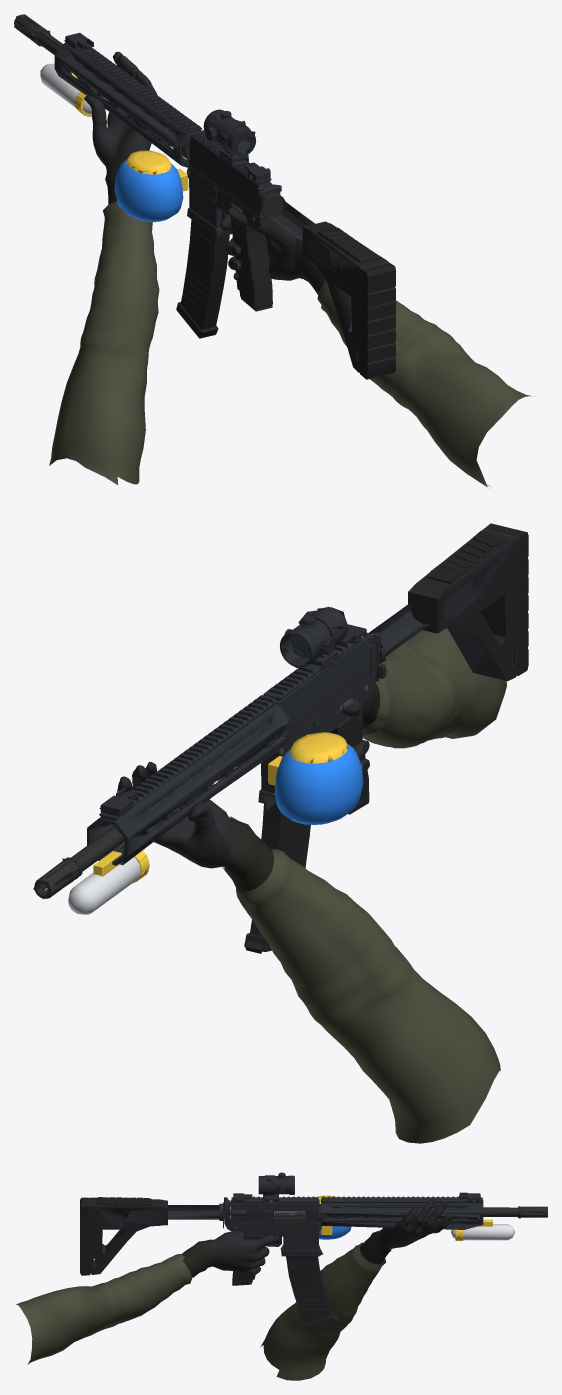
The model's file is gun-rifle.glb.
The picture shows the model from 3 angles, top to bottom: view 1: azimuth 30°, elevation 25°; view 2: azimuth 150°, elevation 25°; view 3: azimuth 270°, elevation 25°; orthographic projection. The views are drawn at different scales.
Visible parts, largest first — view 1: rifle_body, rifle_handL, rifle_handR, rifle_far_body, rifle_mag, rifle_kit, rifle_far_kit, rifle_optic; view 2: rifle_handL, rifle_body, rifle_handR, rifle_far_body, rifle_kit, rifle_far_kit, rifle_optic, rifle_mag; view 3: rifle_body, rifle_handR, rifle_handL, rifle_far_body, rifle_mag, rifle_kit, rifle_optic, rifle_far_kit.
Boxes of the visible parts, left/top/right/bottom form: rifle_body: left=14, top=14, right=395, bottom=379; rifle_handL: left=49, top=51, right=159, bottom=484; rifle_handR: left=220, top=208, right=532, bottom=487; rifle_far_body: left=14, top=14, right=395, bottom=379; rifle_mag: left=176, top=219, right=229, bottom=338; rifle_kit: left=40, top=63, right=188, bottom=221; rifle_far_kit: left=40, top=64, right=188, bottom=222; rifle_optic: left=203, top=109, right=255, bottom=165; rifle_handL: left=117, top=761, right=500, bottom=1143; rifle_body: left=34, top=523, right=528, bottom=898; rifle_handR: left=342, top=628, right=506, bottom=773; rifle_far_body: left=33, top=528, right=528, bottom=951; rifle_kit: left=68, top=732, right=362, bottom=914; rifle_far_kit: left=69, top=732, right=363, bottom=914; rifle_optic: left=280, top=607, right=347, bottom=670; rifle_mag: left=244, top=803, right=310, bottom=953; rifle_body: left=80, top=1192, right=547, bottom=1285; rifle_handR: left=16, top=1231, right=279, bottom=1364; rifle_handL: left=260, top=1198, right=452, bottom=1380; rifle_far_body: left=80, top=1172, right=547, bottom=1317; rifle_mag: left=286, top=1256, right=337, bottom=1329; rifle_kit: left=317, top=1195, right=514, bottom=1240; rifle_optic: left=258, top=1172, right=294, bottom=1203; rifle_far_kit: left=316, top=1195, right=514, bottom=1240.
Bounding box in the file's own units: 0.4243 × 0.5199 × 1.08.
